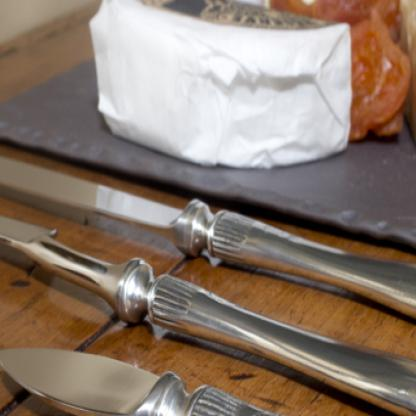knife: (0, 343, 415, 415)
